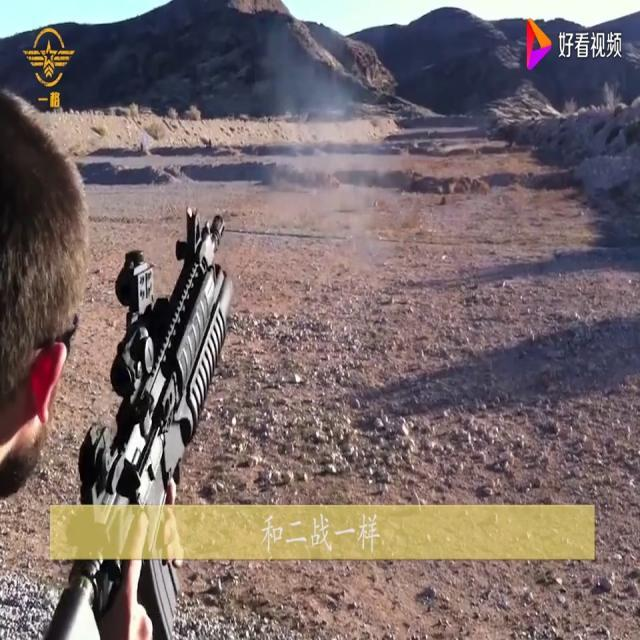gun-knife-thesis - v11 Yolov5 augmented: (65, 195, 247, 613)
